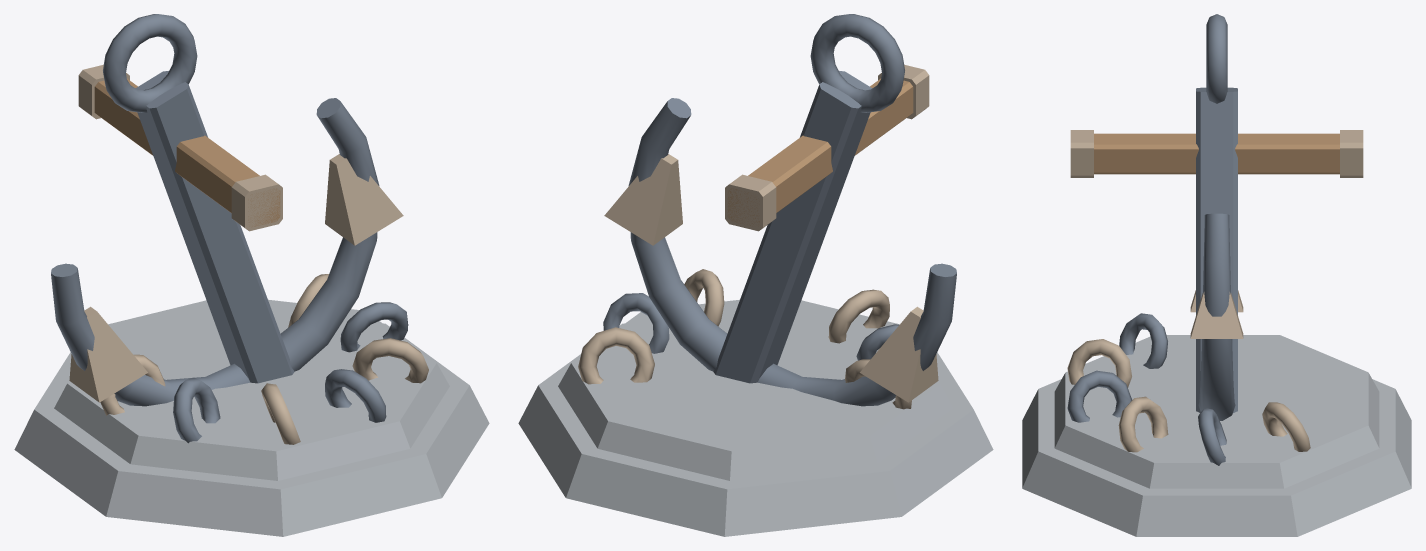
Rendered from prop_anchor.glb.
The picture shows the model from 3 angles, left to right: view 1: azimuth 30°, elevation 25°; view 2: azimuth 150°, elevation 25°; view 3: azimuth 270°, elevation 25°; orthographic projection. The views are drawn at different scales.
Parts seen in each view (by area): view 1: Body; view 2: Body; view 3: Body.
Boxes of the visible parts, left/top/right/bottom form: Body: left=14, top=14, right=489, bottom=536; Body: left=518, top=14, right=993, bottom=536; Body: left=1022, top=14, right=1411, bottom=536.
Size of the model in its own units: 0.6778 by 0.7384 by 0.6652.
